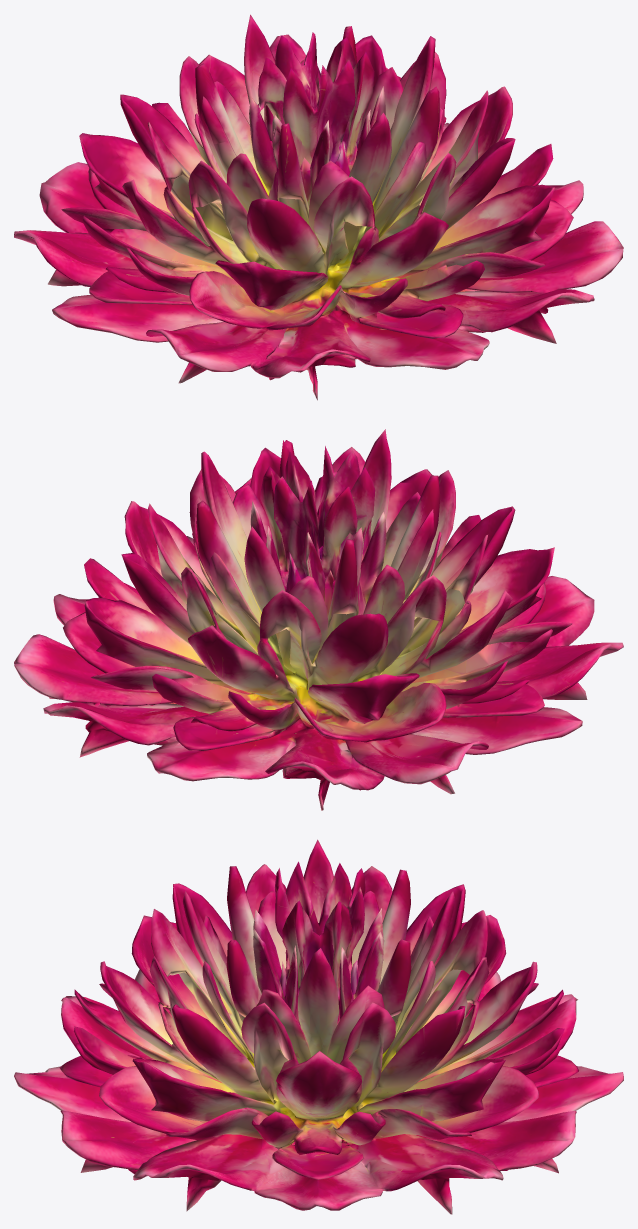
The model's file is lotus_f4ee305b.glb.
The picture shows the model from 3 angles, top to bottom: view 1: azimuth 30°, elevation 25°; view 2: azimuth 150°, elevation 25°; view 3: azimuth 270°, elevation 25°; orthographic projection.
Size of the model in its own units: 2.01 by 0.8758 by 2.01.
1 material, 1 textured.
